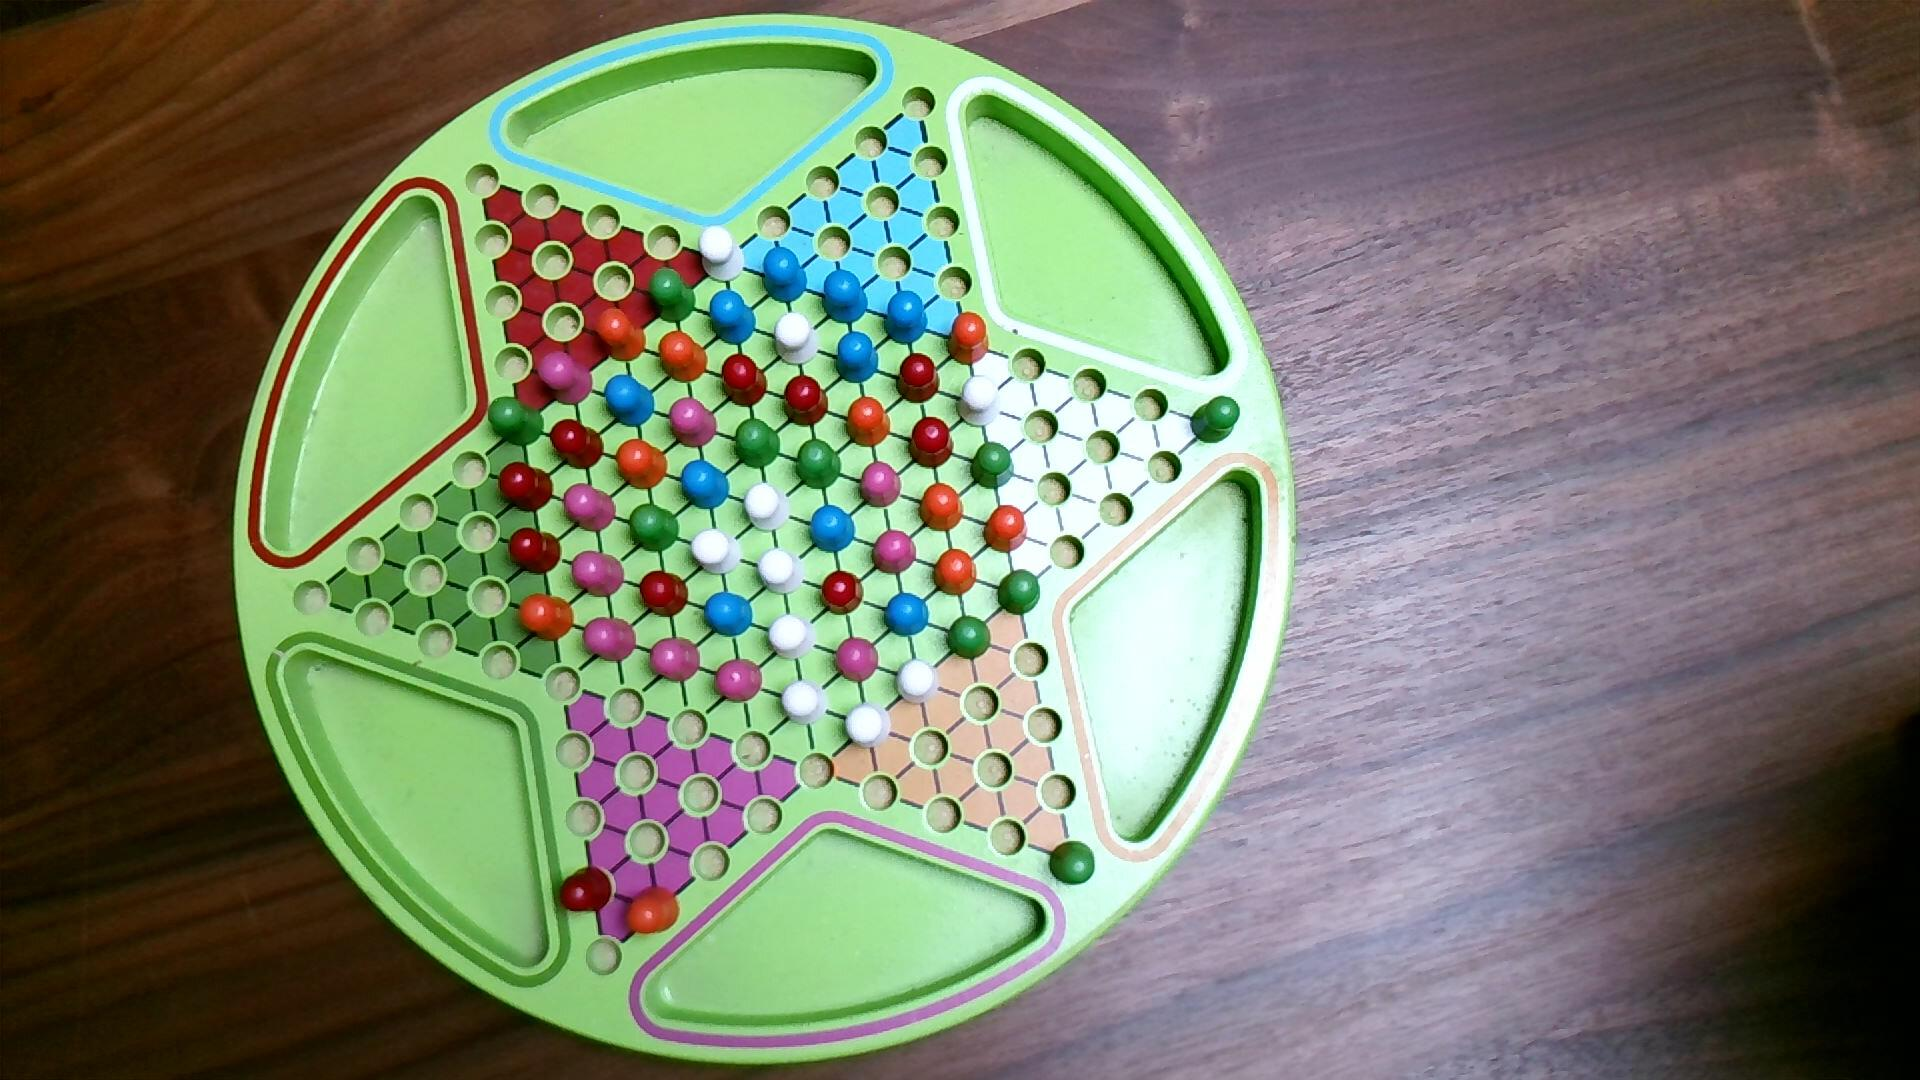B: (707, 287, 758, 348), (603, 375, 657, 430), (820, 268, 870, 327), (760, 245, 810, 305), (680, 458, 732, 512), (884, 289, 931, 347), (807, 502, 857, 556), (702, 589, 756, 640), (833, 330, 881, 386), (882, 591, 931, 640)
G: (487, 396, 546, 450), (647, 265, 699, 326), (626, 502, 682, 555), (794, 438, 844, 492), (1189, 396, 1244, 446), (735, 417, 782, 471), (944, 615, 994, 663), (968, 440, 1015, 492), (996, 568, 1043, 618), (1048, 840, 1097, 887)
O: (593, 306, 649, 365), (622, 884, 683, 936), (517, 592, 578, 644), (615, 436, 670, 492), (657, 328, 711, 385), (916, 480, 967, 534), (844, 396, 891, 451), (945, 311, 992, 368), (982, 504, 1030, 556), (932, 547, 978, 599)
R: (497, 459, 556, 516), (549, 418, 607, 472), (506, 525, 564, 578), (556, 864, 615, 915), (720, 351, 770, 410), (637, 568, 691, 618), (781, 375, 831, 429), (907, 415, 956, 469), (895, 351, 942, 406), (818, 568, 866, 618)
R2: (535, 349, 596, 407), (562, 483, 618, 535), (570, 549, 626, 600), (582, 615, 640, 665), (667, 396, 719, 451), (649, 636, 702, 684), (713, 657, 765, 705), (872, 527, 919, 578), (858, 460, 905, 510), (833, 636, 880, 684)
W: (698, 224, 746, 285), (771, 310, 822, 368), (778, 678, 831, 729), (765, 612, 819, 662), (843, 700, 894, 752), (742, 481, 793, 534), (955, 375, 1004, 429), (756, 547, 807, 597), (690, 527, 742, 576), (893, 657, 942, 707)
